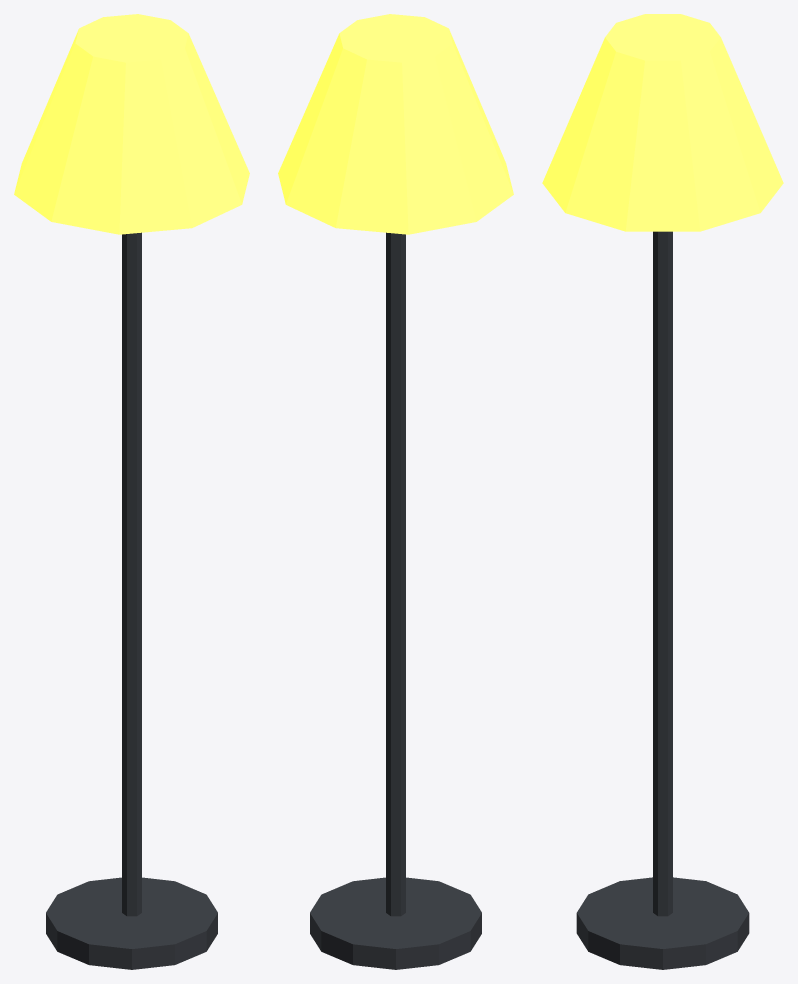
File: lamp_noir.glb
3 views of the same model, side by side, from view 1: azimuth 30°, elevation 25°; view 2: azimuth 150°, elevation 25°; view 3: azimuth 270°, elevation 25° (orthographic).
Visible parts, largest first — view 1: lamp_noir; view 2: lamp_noir; view 3: lamp_noir.
Part boxes in pixels (x1,y1,x2,y2): lamp_noir: (14, 14, 249, 969); lamp_noir: (278, 14, 513, 969); lamp_noir: (542, 14, 783, 969).
Bounding box in the file's own units: 0.3994 × 1.72 × 0.42.
